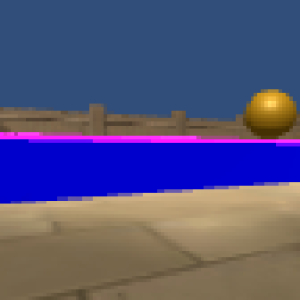goodGoalMulti: (241, 88, 297, 139)
platform: (1, 145, 297, 192)
ramp: (1, 130, 296, 143)
